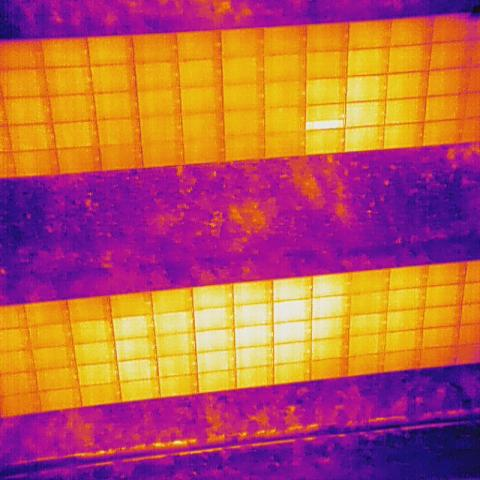fault: (306, 118, 345, 130)
